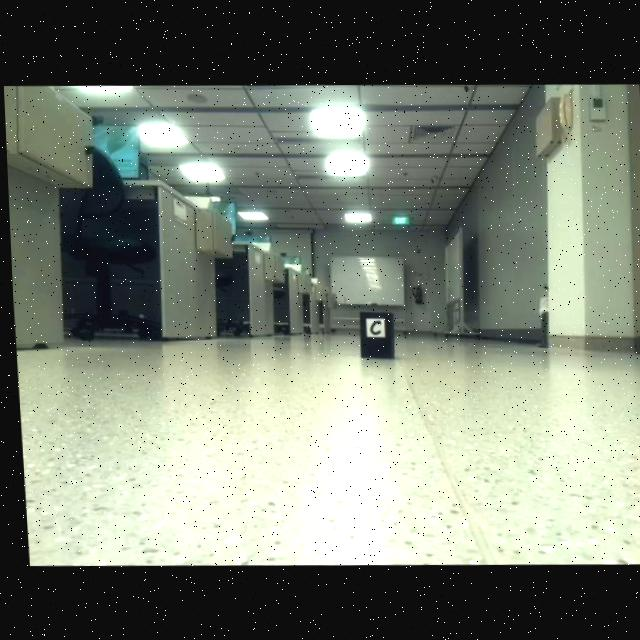C: (367, 318, 379, 334)
